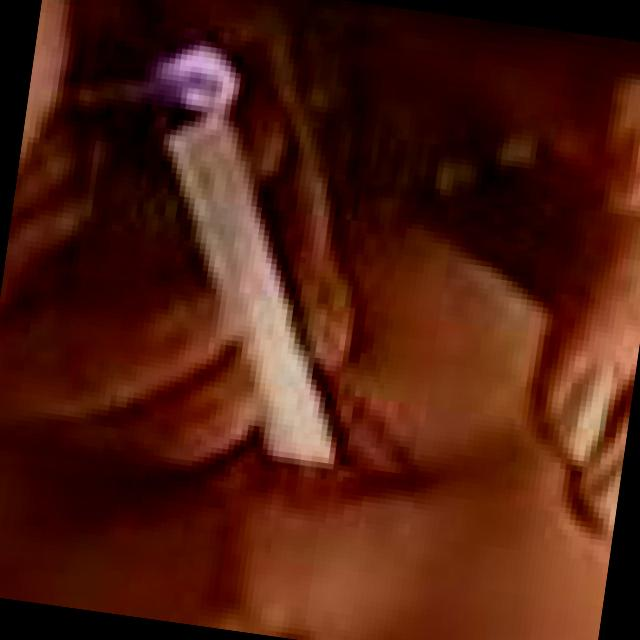smoke: (100, 86, 378, 477)
